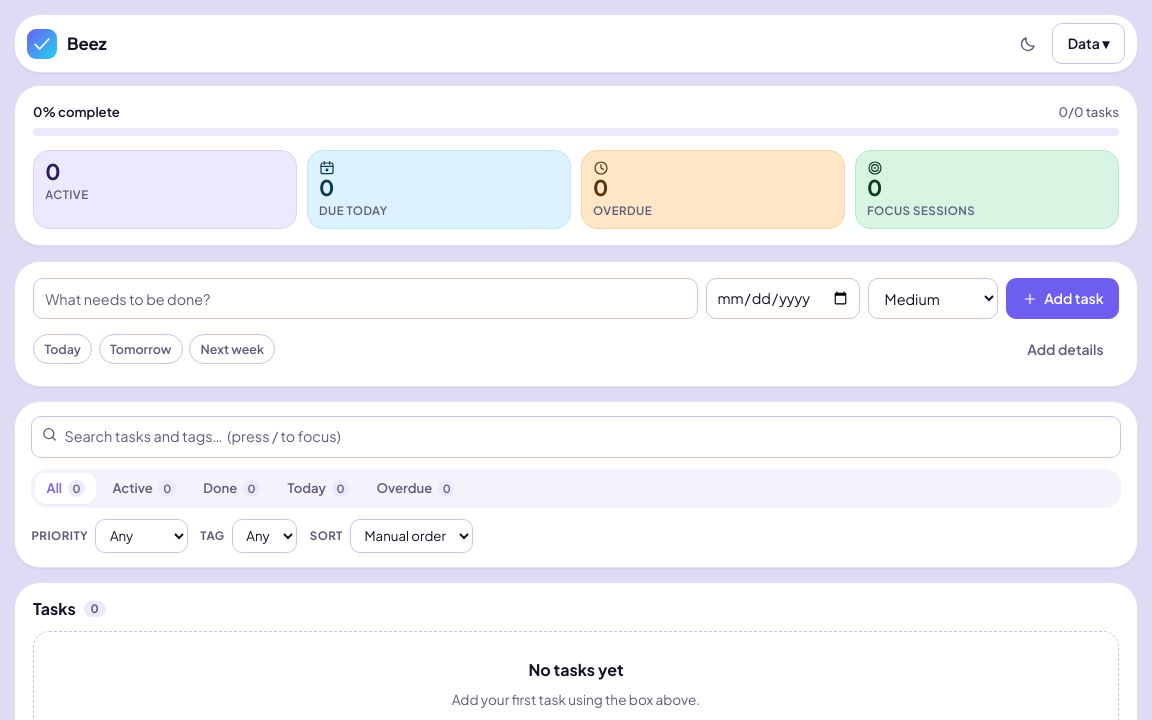
Test: App › adds a task from the composer and persists it
Type "Write the submission form" into the field named "Task title".
click(365, 299); type("Write the submission form")  # box [33,278,698,319]
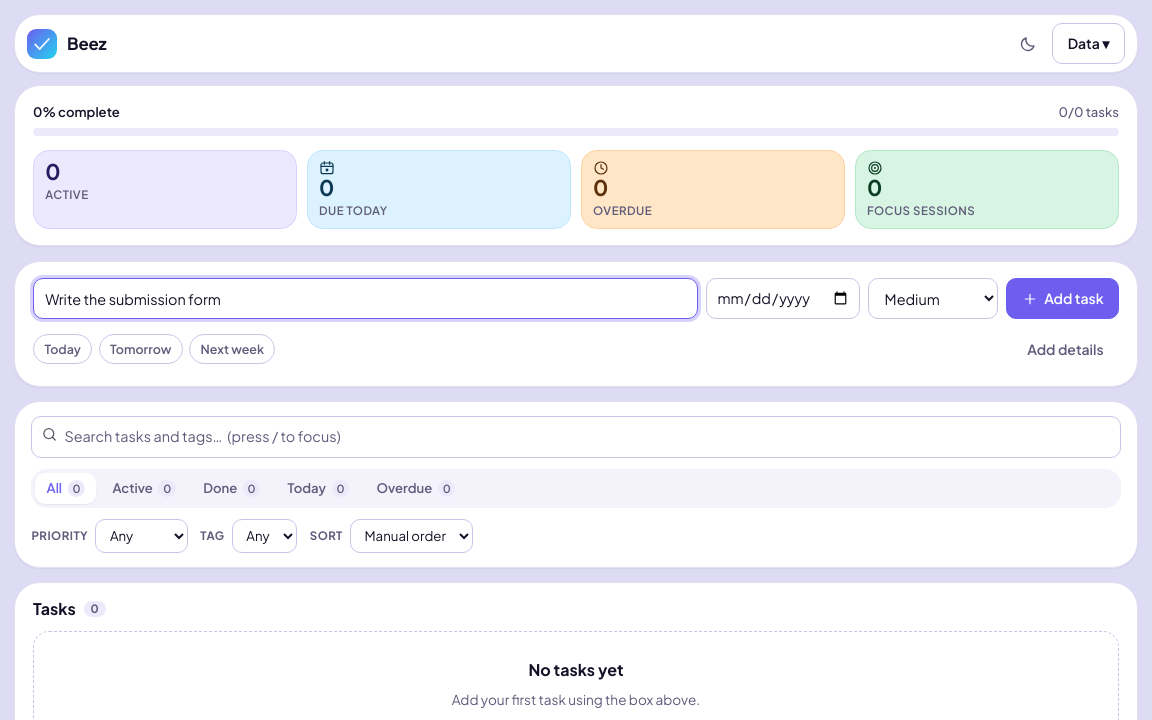
Click the button "Add task".
click(1063, 299)  # box [1006,278,1119,319]
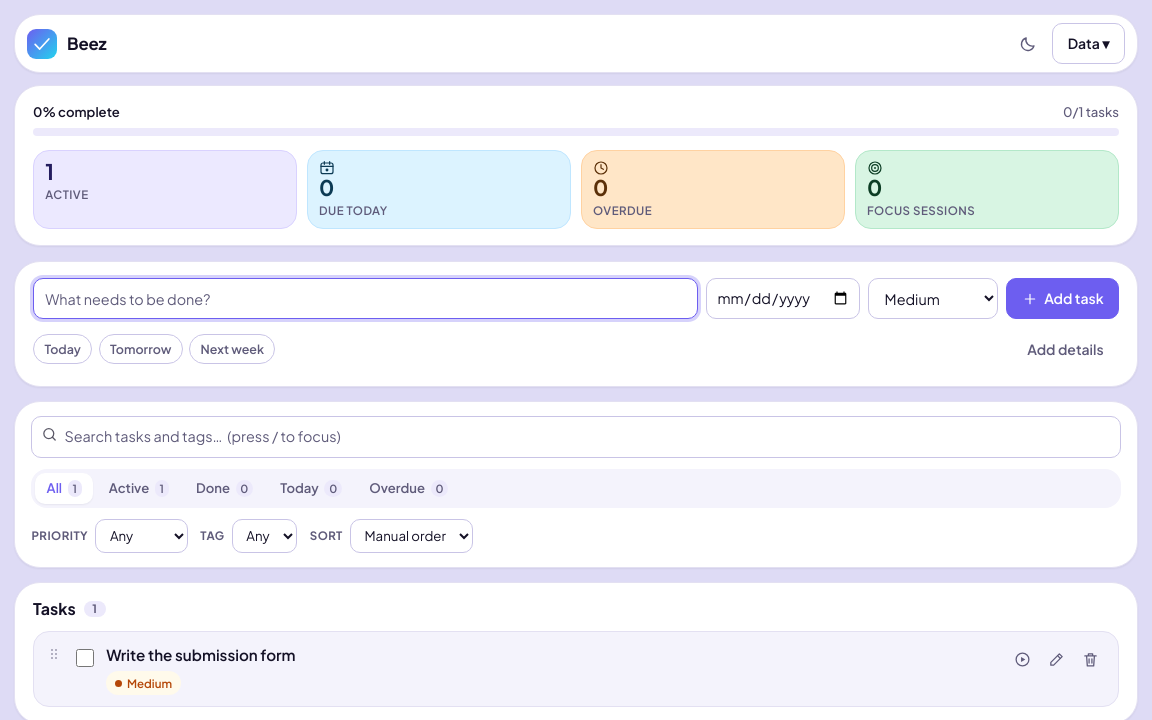
Check: the button "Write the submission form" is shown, box [106,644,997,666]
Check: the text "No tasks yet" is gone
Check: the field named "Task title" is empty, box [33,278,698,319]
